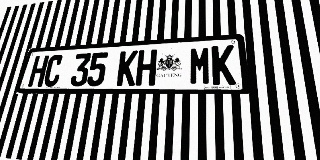3: (69, 53, 92, 86)
5: (86, 52, 108, 86)
C: (42, 54, 64, 87)
H: (135, 49, 157, 86), (27, 55, 49, 87)
K: (212, 45, 236, 85), (116, 50, 138, 86)
M: (189, 46, 211, 85)
